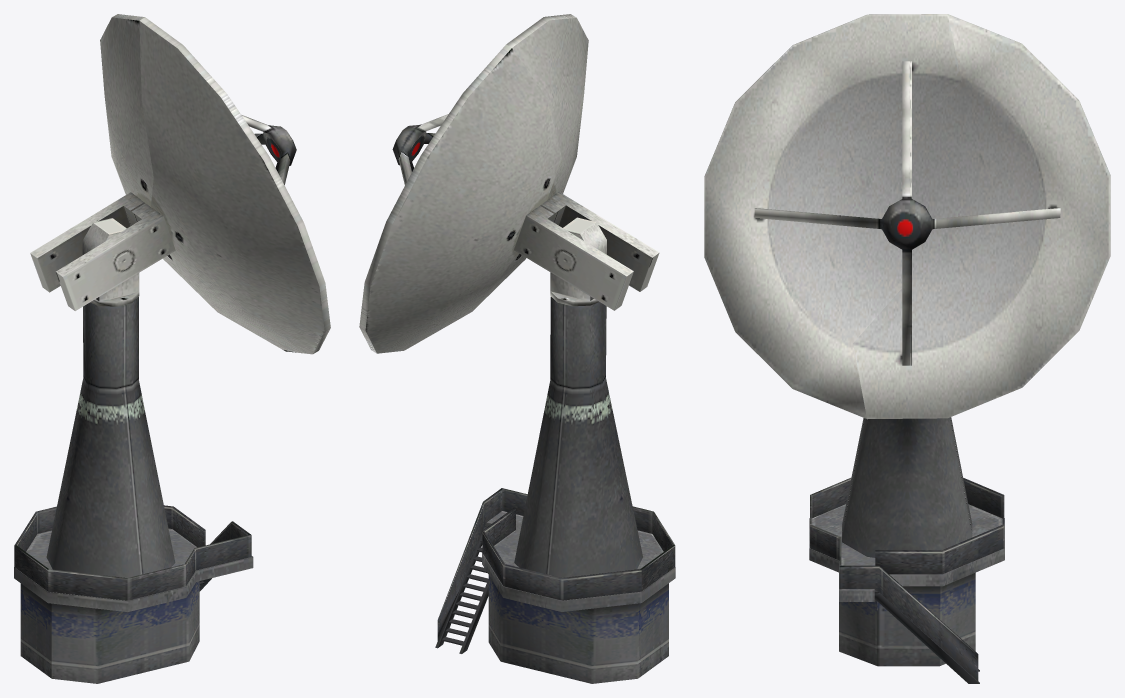
Rendered from radar2.glb.
3 renders of one model, left to right at view 1: azimuth 30°, elevation 25°; view 2: azimuth 150°, elevation 25°; view 3: azimuth 270°, elevation 25°, orthographic. The views are drawn at different scales.
Visible parts, largest first — view 1: r2walls; view 2: r2walls; view 3: r2walls.
Boxes of the visible parts, x1=… form: r2walls: x1=14, y1=14, x2=330, y2=683; r2walls: x1=359, y1=14, x2=675, y2=683; r2walls: x1=704, y1=14, x2=1110, y2=683.
Bounding box in the file's own units: 17.14 × 37.97 × 21.81.
1 material, 1 textured.
